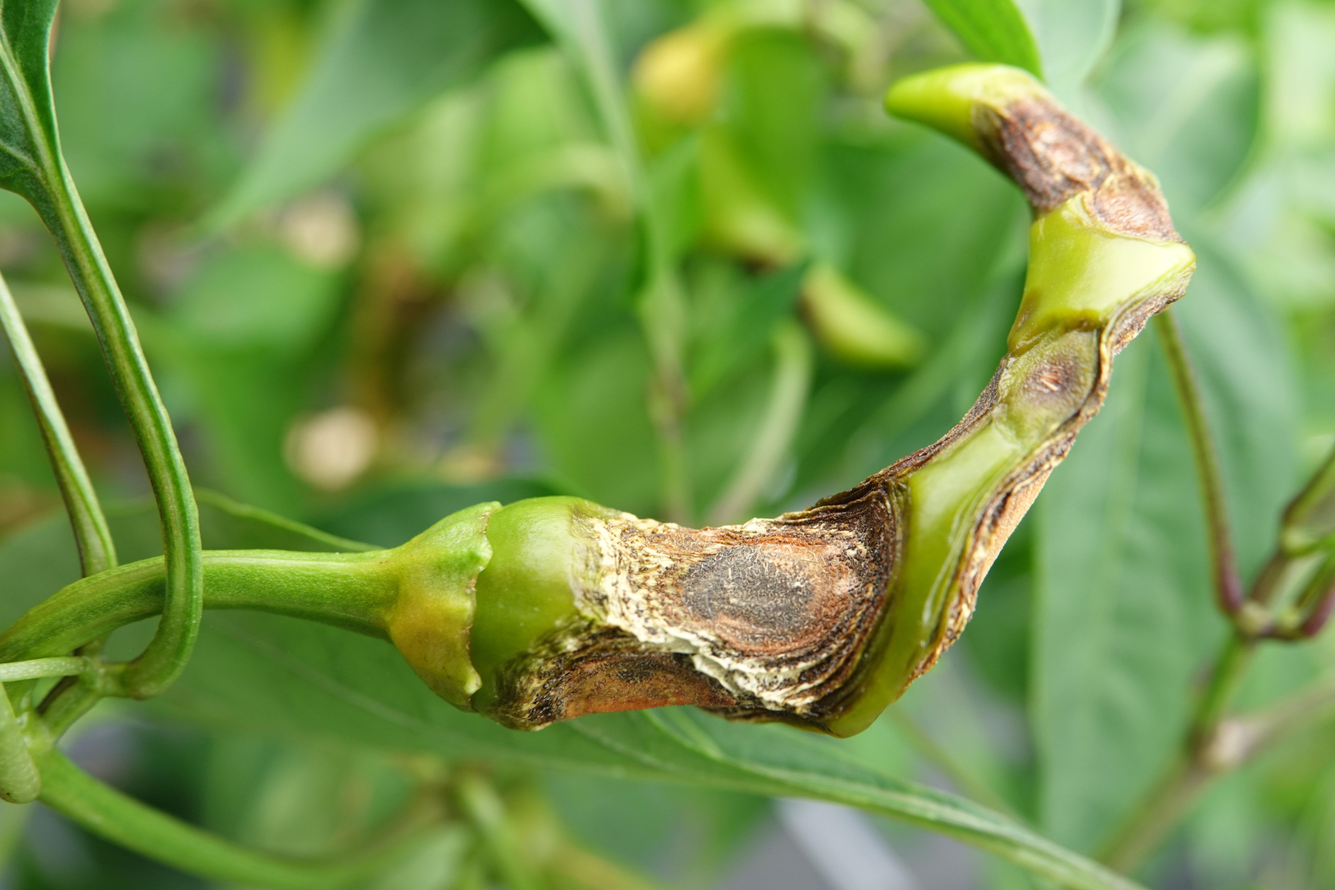Busuk Buah Antraknosa: (373, 56, 1200, 751)
